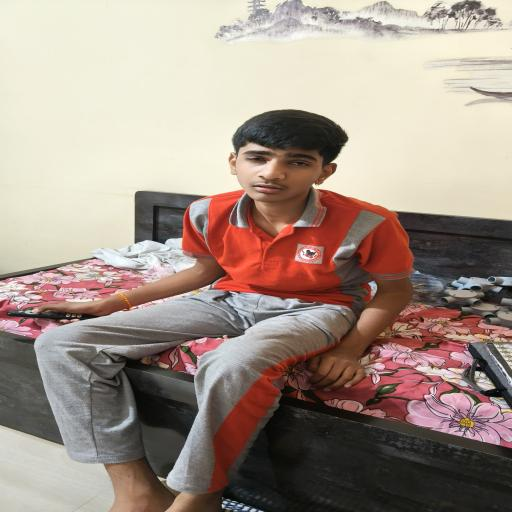survivor: (30, 108, 416, 512)
